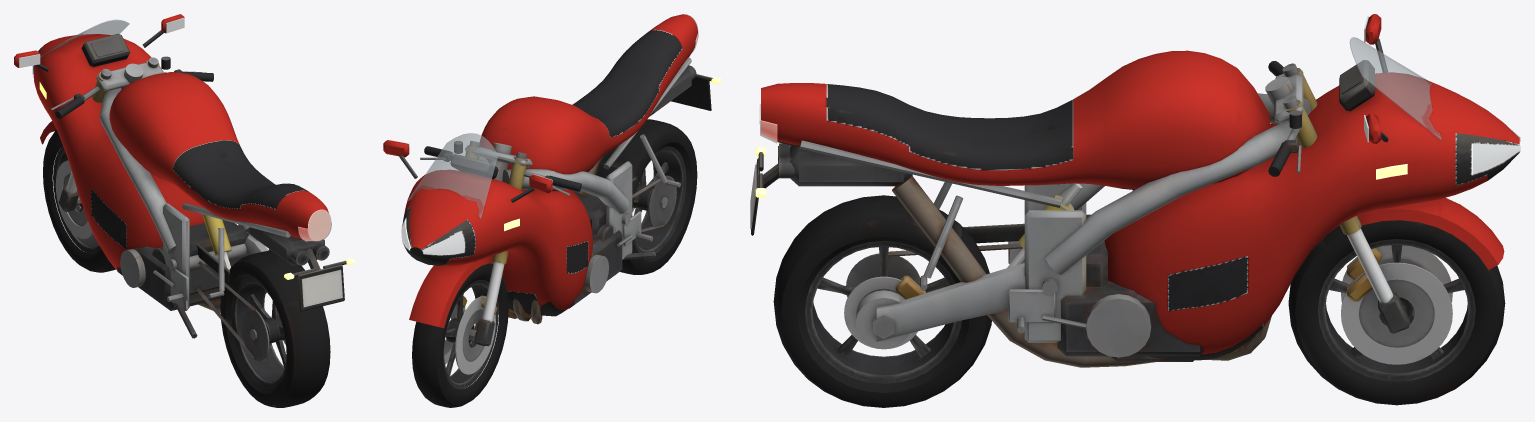
Rendered from sport_motorcycle.glb.
The picture shows the model from 3 angles, left to right: view 1: azimuth 30°, elevation 25°; view 2: azimuth 150°, elevation 25°; view 3: azimuth 270°, elevation 25°; orthographic projection. The views are drawn at different scales.
Parts seen in each view (by area): view 1: lod0, wheel_r, wheel_f, fork_mesh, swingarm; view 2: lod0, wheel_f, wheel_r, fork_mesh; view 3: lod0, wheel_f, wheel_r, fork_mesh, swingarm.
Part boxes in pixels (bbox=[...]): lod0: bbox=[14, 14, 354, 338]; wheel_r: bbox=[220, 251, 330, 407]; wheel_f: bbox=[43, 129, 115, 272]; fork_mesh: bbox=[40, 56, 213, 211]; swingarm: bbox=[189, 232, 268, 359]; lod0: bbox=[383, 14, 721, 324]; wheel_f: bbox=[412, 263, 508, 407]; wheel_r: bbox=[595, 119, 697, 274]; fork_mesh: bbox=[409, 141, 581, 346]; lod0: bbox=[750, 14, 1520, 367]; wheel_f: bbox=[1288, 220, 1505, 405]; wheel_r: bbox=[773, 195, 991, 407]; fork_mesh: bbox=[1268, 61, 1504, 333]; swingarm: bbox=[856, 223, 1025, 348].
Size of what is drawn, in the model's own units: 0.7556 by 1.1 by 2.13.
Materials: 8 (7 with a texture image).
